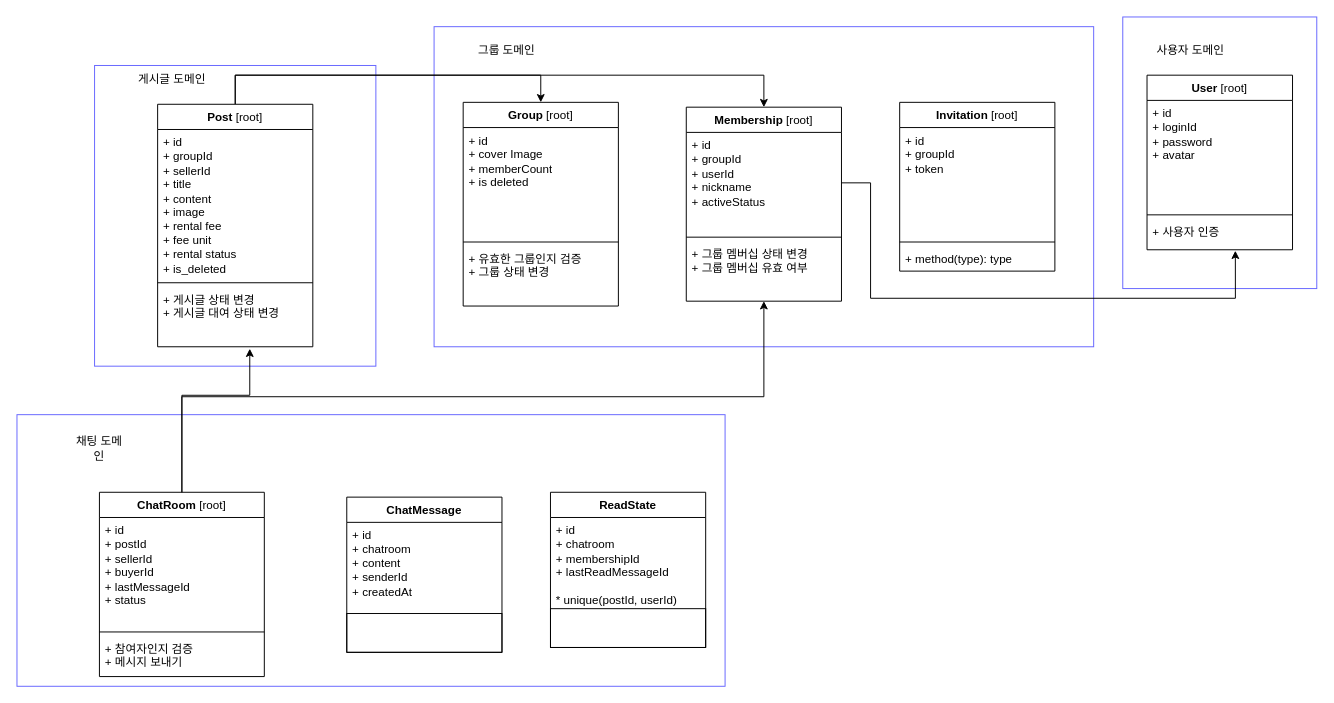
Some shapes in this 1334 by 703 pixel diagram are drawn without their labels. Each missing label, with the centre of its shape:
"+ 메시지 생성" belongs at (x=424, y=632).
"+ 메시지 읽음 처리" belongs at (x=628, y=627).
